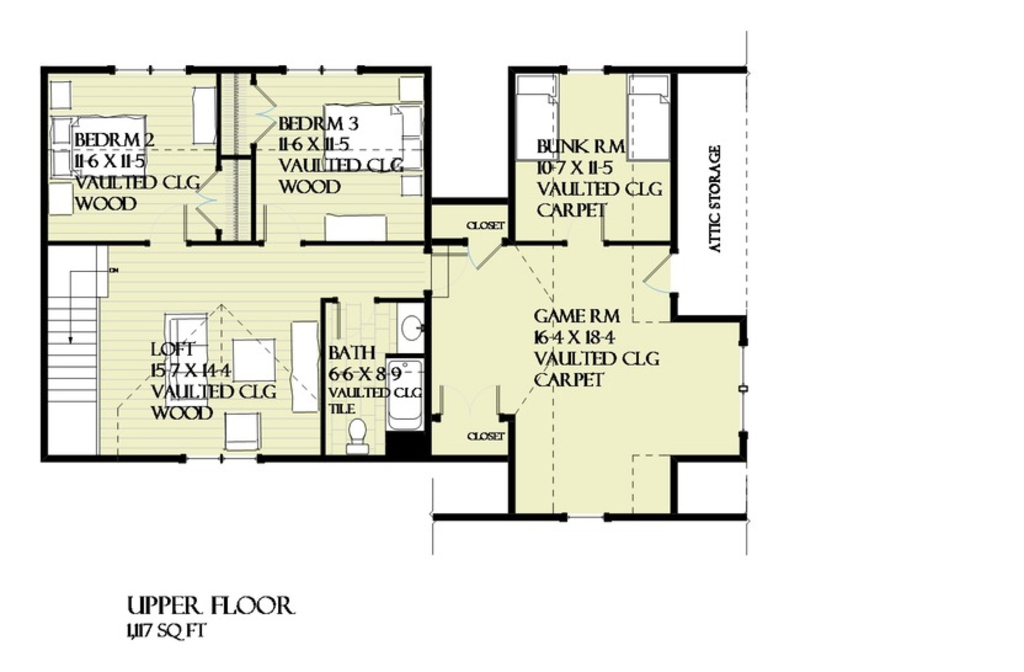bed: (44, 109, 155, 179), (320, 100, 427, 171), (621, 71, 679, 163), (511, 68, 565, 163)
door: (188, 167, 232, 235), (246, 78, 279, 143)
large_sink: (341, 414, 369, 453)
large_sofa: (150, 304, 219, 413)
small_sink: (391, 300, 430, 351)
small_sofa: (220, 405, 269, 450)
stairs: (45, 239, 118, 455), (643, 245, 679, 292), (461, 239, 508, 272)
tub: (385, 354, 432, 432)
window: (282, 65, 360, 79), (113, 65, 191, 78), (181, 451, 260, 462), (561, 507, 613, 521)
